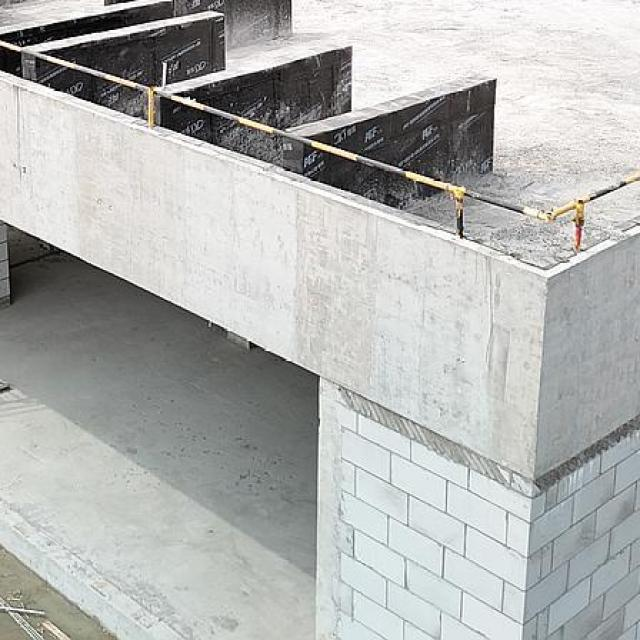edge_guardrail: (0, 39, 640, 255)
